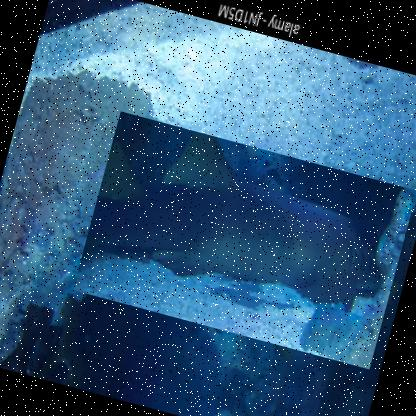zebra_shark: (71, 110, 415, 370)
